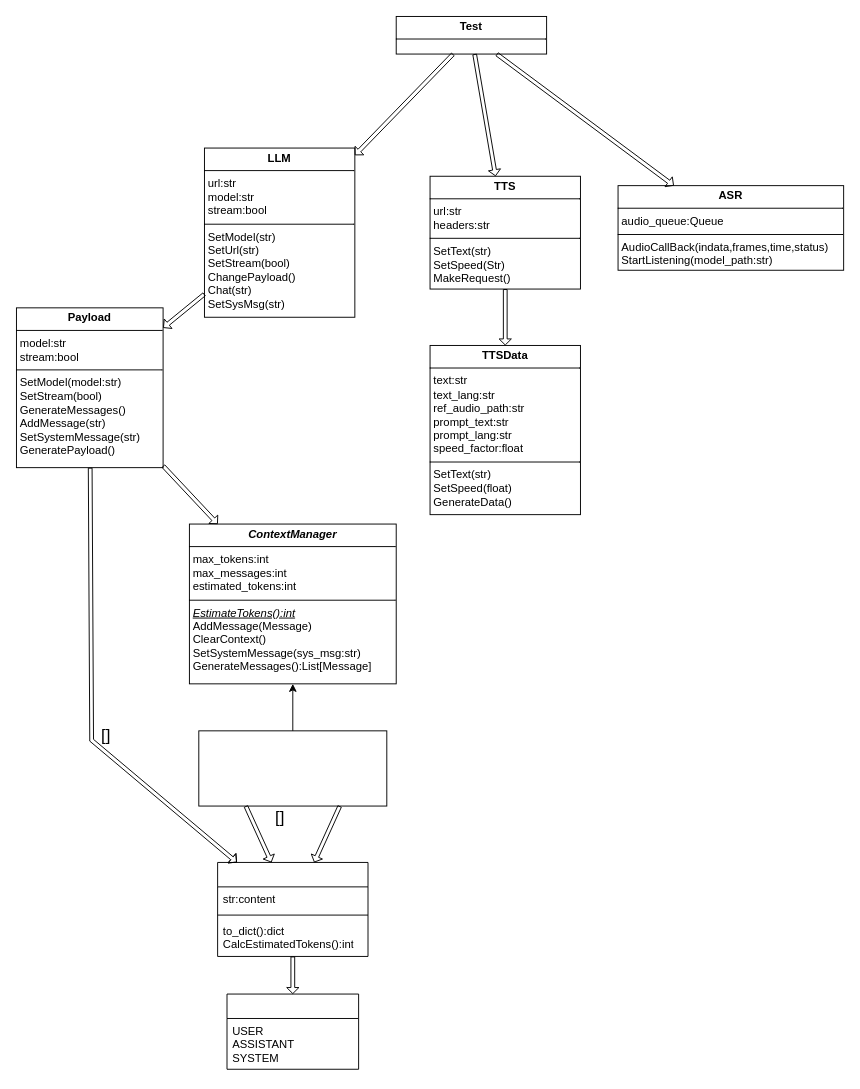
The diagram is 860 pixels wide and 1089 high, and some of its shapes have lost their labels. The shapes that lost their labels are listed below. From the top down, each one's box as (x1, y1, x2, y2) in pixels, then its label:
(198, 730, 387, 806): ContextManagerForEnglishOnly EstimateTokens():int
(217, 862, 368, 956): Message
(226, 993, 359, 1069): MessageRole
